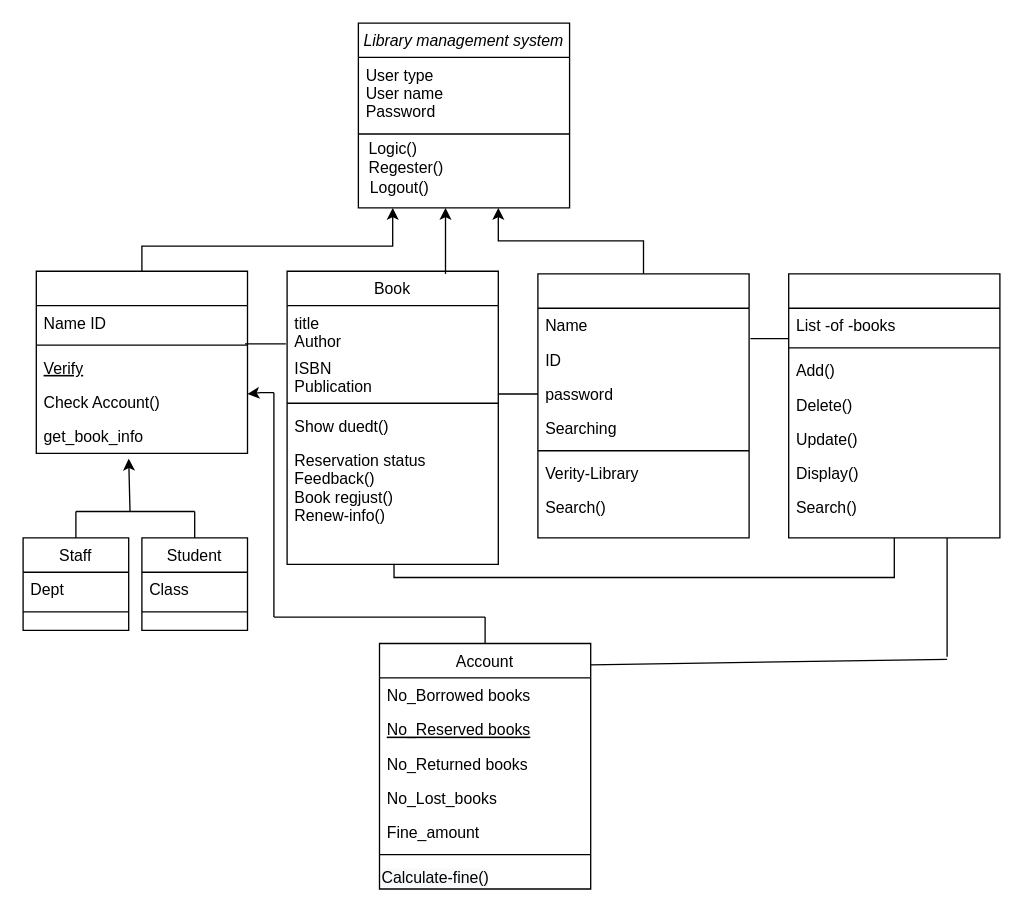
Some shapes in this 1023 by 912 pixel diagram are drawn without their labels. Here are the shapes that lost their labels. From the top down, the box of each, then its label:
(35, 270, 248, 453): User
(537, 273, 749, 538): Librarian
(787, 273, 1000, 538): Library database
